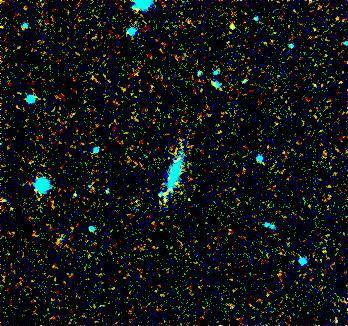star: (217, 13, 247, 43)
